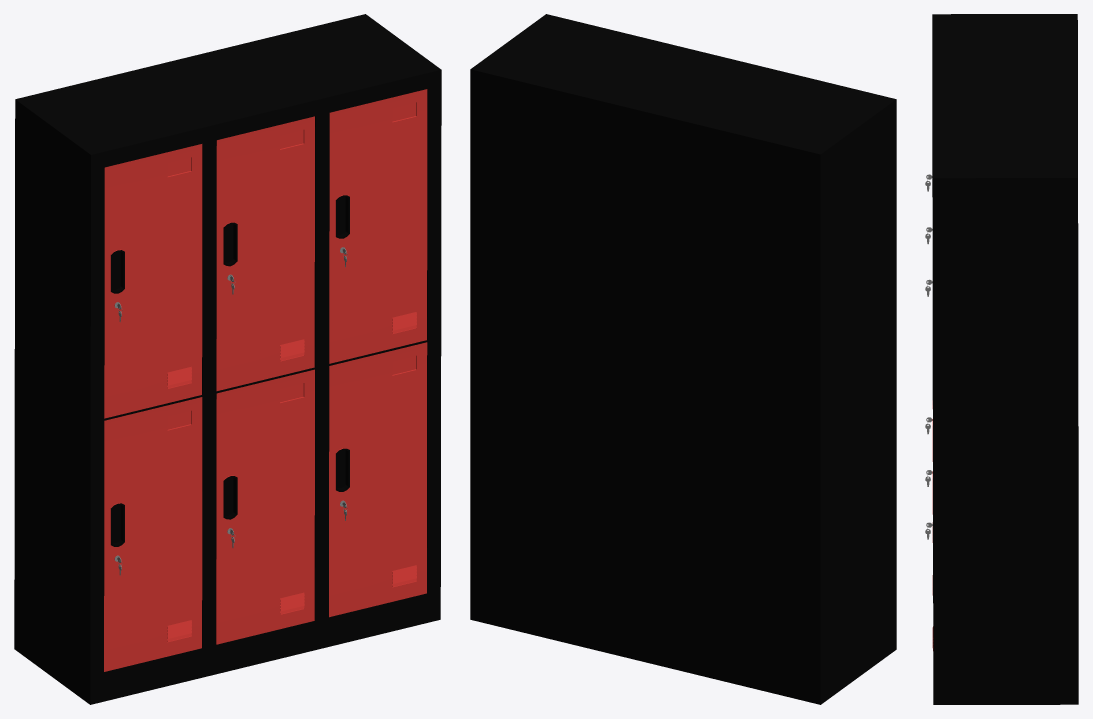
The model's file is Prop_MultiLocker_Red.fbx.
3 renders of one model, left to right at view 1: azimuth 30°, elevation 25°; view 2: azimuth 150°, elevation 25°; view 3: azimuth 270°, elevation 25°, orthographic. The views are drawn at different scales.
Visible parts, largest first — view 1: Locker; view 2: Locker; view 3: Locker.
Part boxes in pixels (left/top/right/bottom): Locker: left=14, top=14, right=441, bottom=704; Locker: left=470, top=14, right=896, bottom=704; Locker: left=925, top=14, right=1078, bottom=704.
Size of the model in its own units: 200 by 300 by 79.12.
